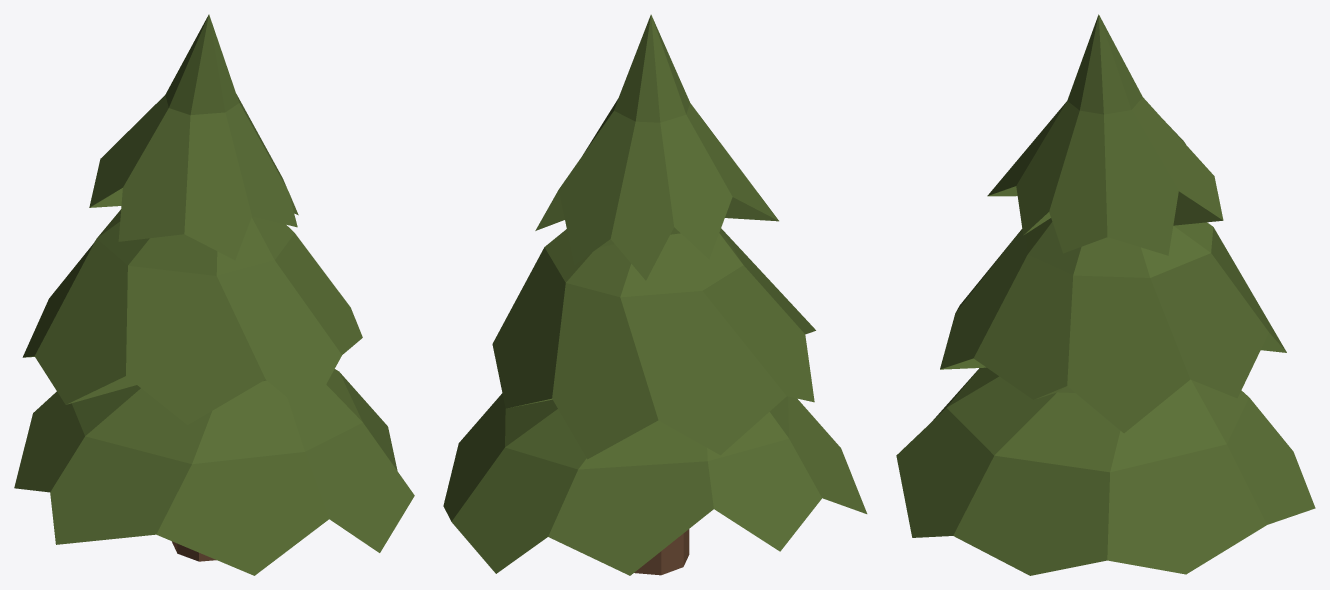
The picture shows the model from 3 angles, left to right: view 1: azimuth 30°, elevation 25°; view 2: azimuth 150°, elevation 25°; view 3: azimuth 270°, elevation 25°; orthographic projection. The views are drawn at different scales.
Parts seen in each view (by area): view 1: tree_03; view 2: tree_03; view 3: tree_03.
Boxes of the visible parts, x1,y1,x2,y2 form: tree_03: (14,14,414,575); tree_03: (443,14,867,575); tree_03: (896,14,1315,575).
Size of the model in its own units: 3.15 by 4.38 by 3.15.
Materials: 1 (1 with a texture image).
